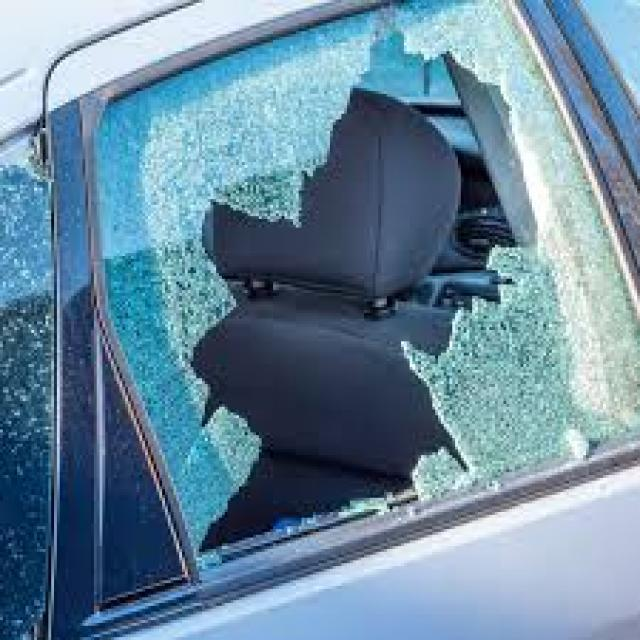damaged-window: (96, 0, 640, 552)
